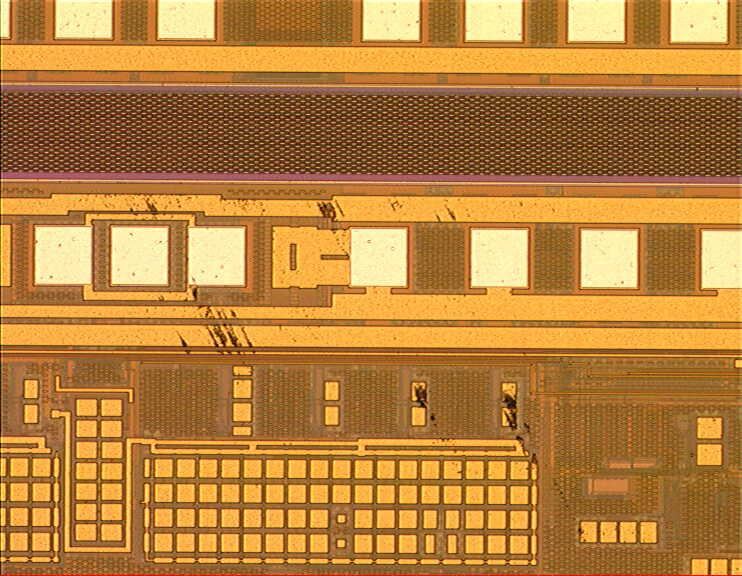SCRATCH: (134, 182, 595, 554)
